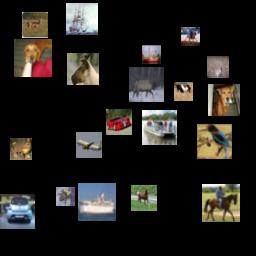airplane: (76, 132, 102, 158)
automobile: (0, 194, 35, 229), (106, 109, 132, 135)
bird: (197, 124, 232, 159), (207, 56, 229, 78)
deer: (129, 67, 164, 102), (67, 53, 99, 85), (22, 12, 48, 38)
dog: (14, 39, 52, 77), (208, 84, 240, 116)
frog: (10, 138, 32, 160), (56, 187, 75, 206)
ship: (78, 183, 116, 221), (142, 110, 177, 145), (66, 3, 98, 35), (142, 45, 161, 64)
